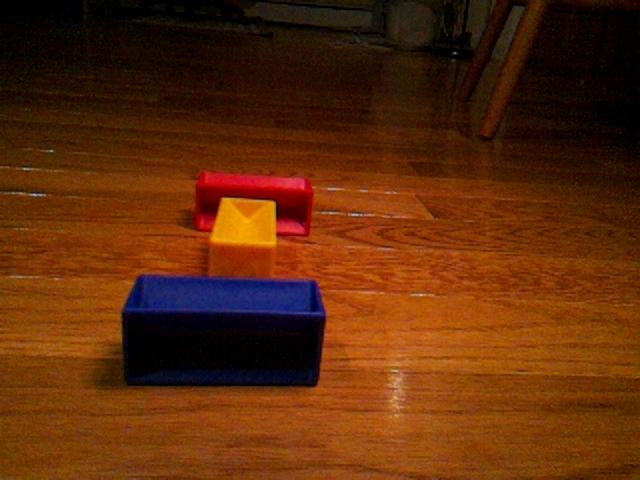blue: (120, 272, 328, 388)
red: (193, 169, 315, 238)
yellow: (207, 196, 278, 278)
